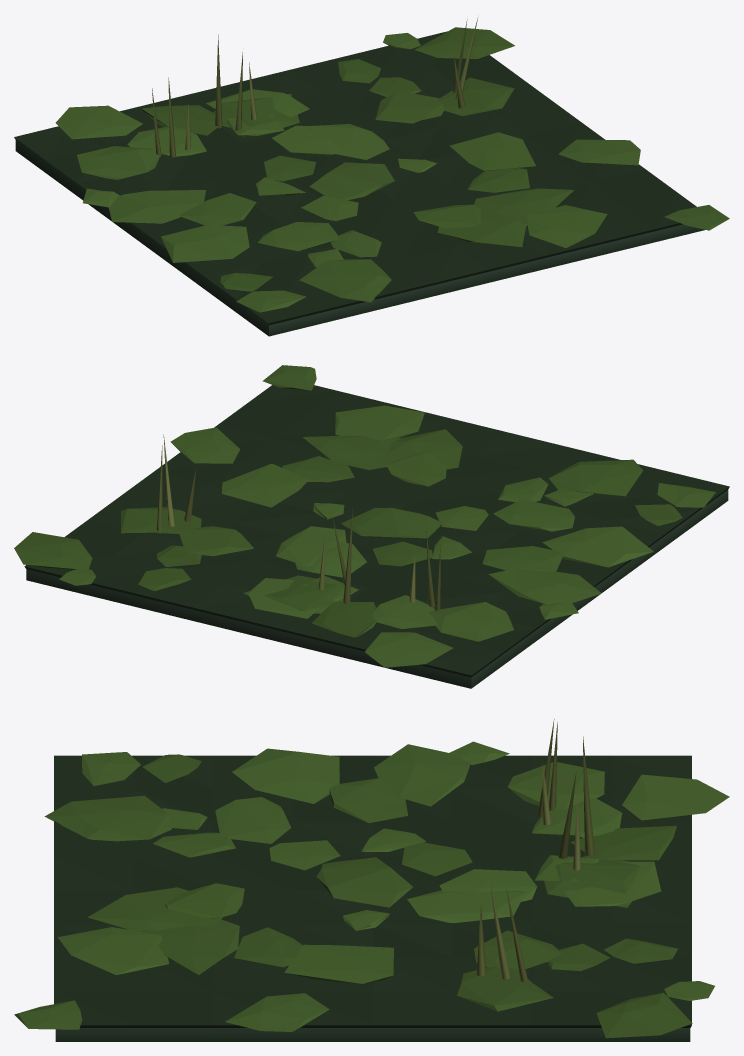
The model's file is water-open-duckweed-bayou.glb.
3 renders of one model, top to bottom at view 1: azimuth 30°, elevation 25°; view 2: azimuth 150°, elevation 25°; view 3: azimuth 270°, elevation 25°, orthographic. The views are drawn at different scales.
Visible parts, largest first — view 1: water_open_duckweed_bayou; view 2: water_open_duckweed_bayou; view 3: water_open_duckweed_bayou.
Boxes of the visible parts, <box> form: water_open_duckweed_bayou: <box>14,18,729,336</box>; water_open_duckweed_bayou: <box>14,365,729,688</box>; water_open_duckweed_bayou: <box>14,719,729,1041</box>.
Bounding box in the file's own units: 4.41 × 0.9538 × 4.49.
